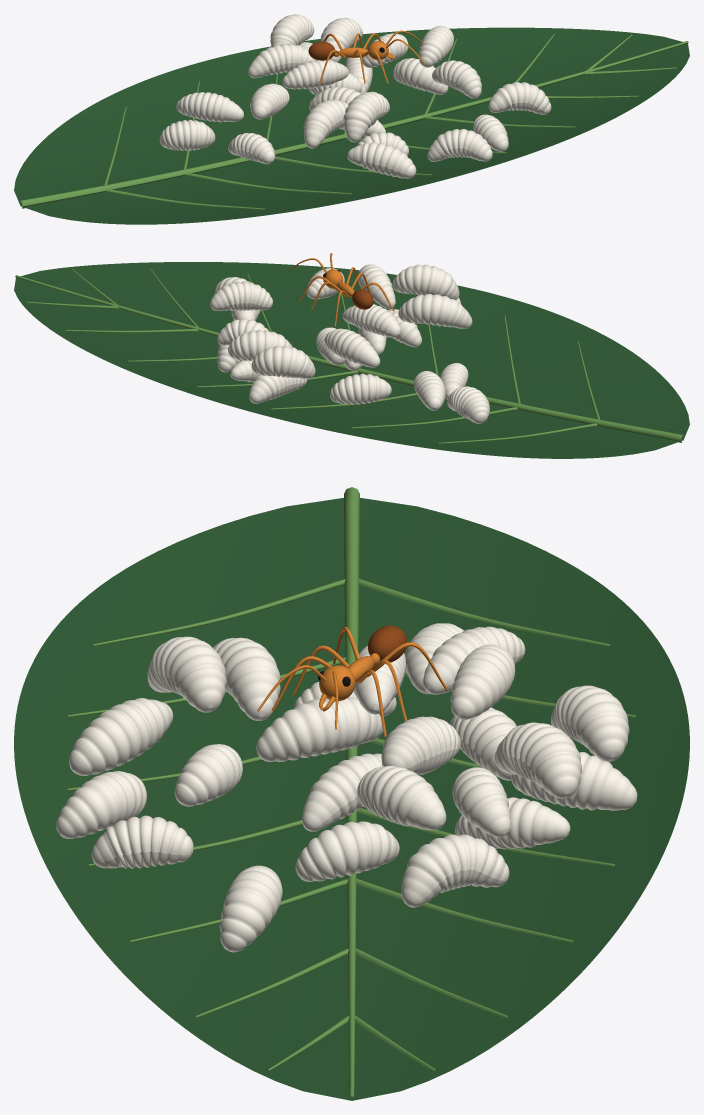
The model's file is kroto_semut.glb.
The picture shows the model from 3 angles, top to bottom: view 1: azimuth 30°, elevation 25°; view 2: azimuth 150°, elevation 25°; view 3: azimuth 270°, elevation 25°; orthographic projection. The views are drawn at different scales.
Parts seen in each view (by area): view 1: leaf, leaf_midrib, larva_02, larva_12, larva_20, larva_17, larva_10, larva_23, larva_13, larva_09, larva_14, larva_06 (+17 smaller); view 2: leaf, leaf_midrib, larva_09, larva_10, larva_19, larva_21, larva_22, larva_23, larva_13, larva_24, larva_14, larva_16 (+15 smaller); view 3: leaf, larva_05, larva_04, larva_02, larva_24, leaf_midrib, larva_06, larva_10, larva_07, larva_19, larva_12, larva_21 (+17 smaller).
Part boxes in pixels (x1,y1,x2,y2): leaf: (14, 27, 689, 224); leaf_midrib: (20, 41, 688, 208); larva_02: (347, 142, 416, 178); larva_12: (427, 129, 492, 161); larva_20: (176, 92, 243, 122); larva_17: (488, 82, 551, 114); larva_10: (343, 91, 389, 142); larva_23: (248, 44, 315, 78); larva_13: (282, 59, 348, 89); larva_09: (303, 99, 348, 148); larva_14: (159, 119, 215, 150); larva_06: (432, 60, 481, 98); leaf: (14, 262, 689, 458); leaf_midrib: (15, 275, 684, 442); larva_09: (398, 294, 472, 328); larva_10: (392, 264, 459, 299); larva_19: (251, 346, 315, 378); larva_21: (210, 281, 272, 310); larva_22: (330, 373, 391, 404); larva_23: (324, 328, 380, 367); larva_13: (342, 304, 401, 337); larva_24: (228, 330, 292, 360); larva_14: (447, 386, 489, 423); larva_16: (249, 374, 307, 403); leaf: (14, 498, 689, 1100); larva_05: (256, 697, 383, 761); larva_04: (401, 834, 509, 907); larva_02: (69, 698, 173, 775); larva_24: (494, 722, 581, 798); leaf_midrib: (344, 487, 359, 1097); larva_06: (295, 821, 399, 881); larva_10: (147, 636, 226, 712); larva_07: (91, 815, 193, 868); larva_19: (551, 685, 629, 761); larva_12: (56, 771, 146, 838); larva_21: (357, 765, 446, 830).
Bounding box in the file's own units: 0.1601 × 0.0228 × 0.0756.
